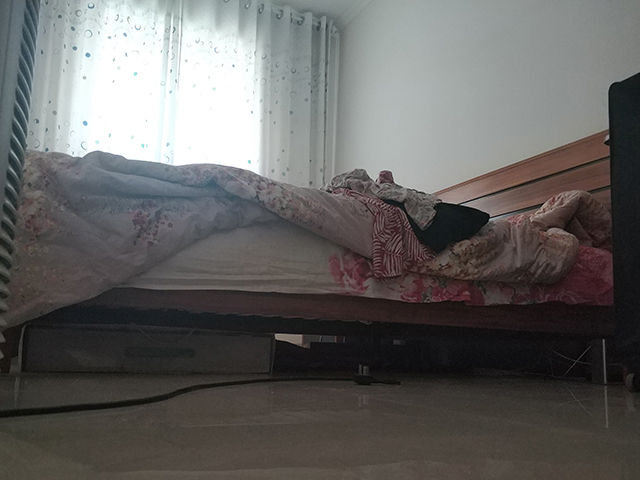bed: (1, 126, 612, 385)
wire: (1, 363, 404, 418)
